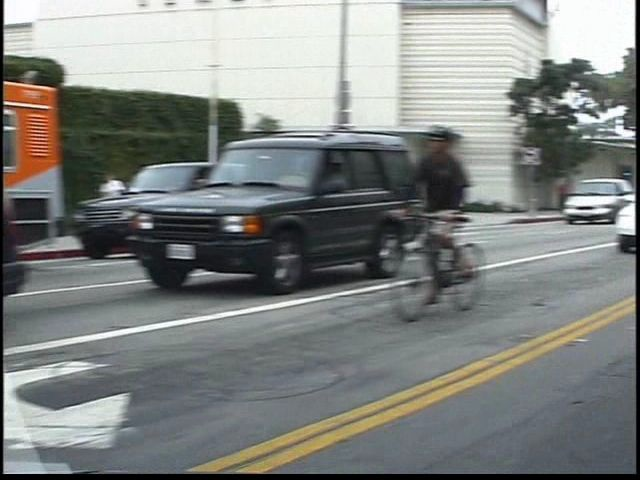person: (433, 119, 502, 308), (121, 170, 151, 242), (571, 171, 594, 220)
